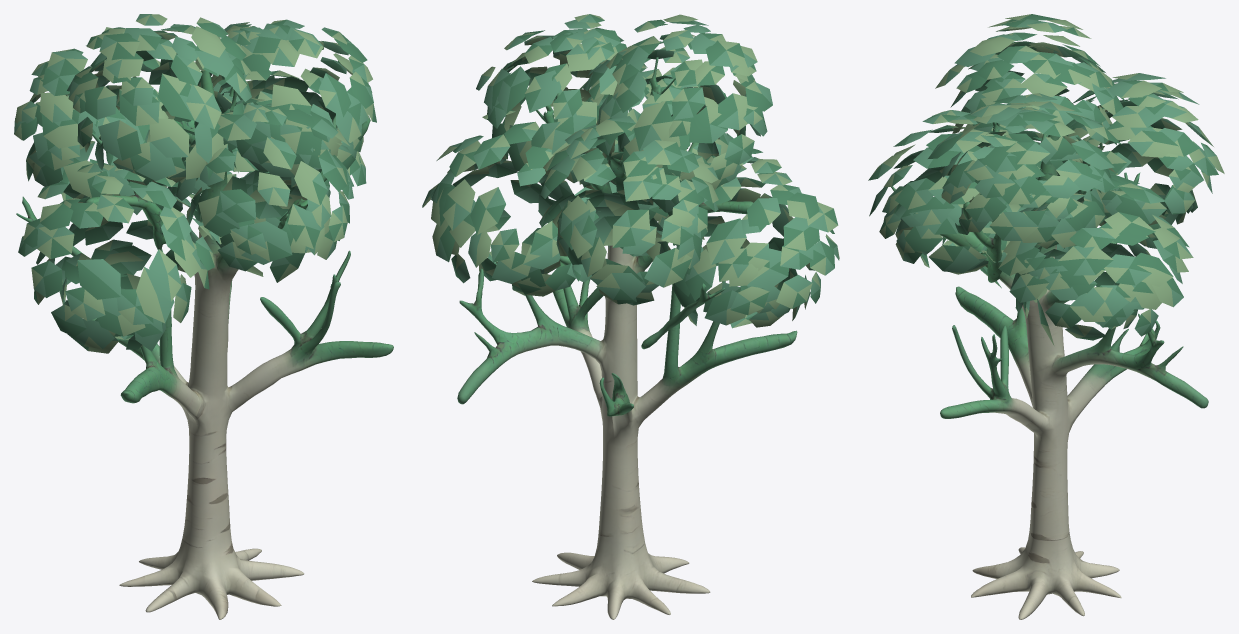
Rendered from silver_birch.glb.
3 renders of one model, left to right at view 1: azimuth 30°, elevation 25°; view 2: azimuth 150°, elevation 25°; view 3: azimuth 270°, elevation 25°, orthographic. The views are drawn at different scales.
Visible parts, largest first — view 1: Radial birch foliage, model; view 2: Radial birch foliage, model; view 3: Radial birch foliage, model.
Boxes of the visible parts, bbox=[...] form: Radial birch foliage: bbox=[14, 14, 376, 353]; model: bbox=[16, 70, 393, 619]; Radial birch foliage: bbox=[422, 14, 839, 328]; model: bbox=[457, 57, 797, 619]; Radial birch foliage: bbox=[868, 14, 1224, 345]; model: bbox=[891, 122, 1208, 619].
Size of the model in its own units: 1.37 by 2.09 by 1.26.
Materials: 4 (1 with a texture image).
